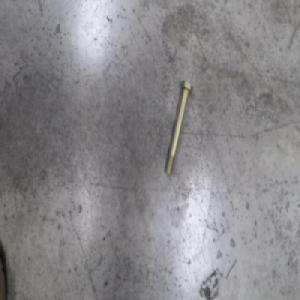Bolt: (163, 80, 193, 179)
